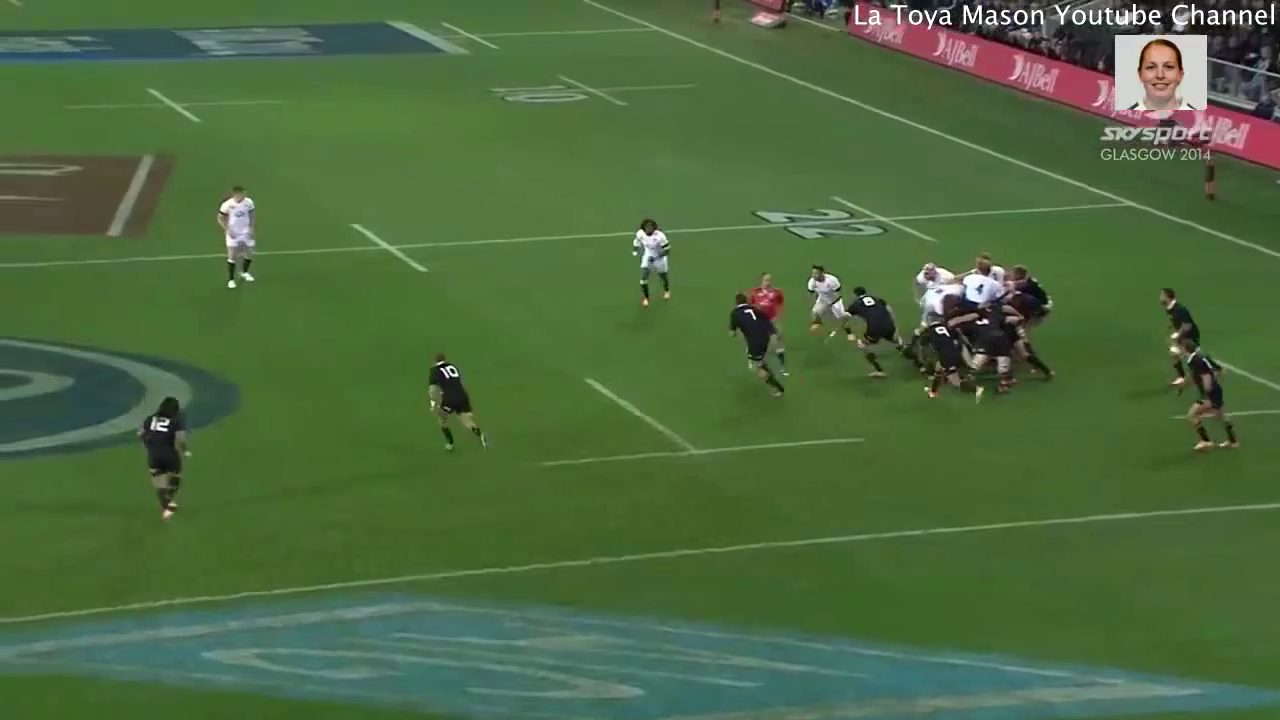10_metre: (58, 84, 298, 127), (490, 70, 695, 119)
maul: (908, 255, 1064, 403)
player: (414, 353, 499, 456), (1171, 333, 1242, 456), (131, 395, 196, 528), (825, 277, 902, 387), (724, 288, 789, 401), (207, 181, 270, 295), (799, 262, 860, 347), (627, 215, 680, 306), (1158, 283, 1204, 383), (911, 314, 967, 393), (964, 314, 1012, 391), (747, 267, 789, 334), (961, 261, 1000, 306), (1011, 269, 1051, 311)
